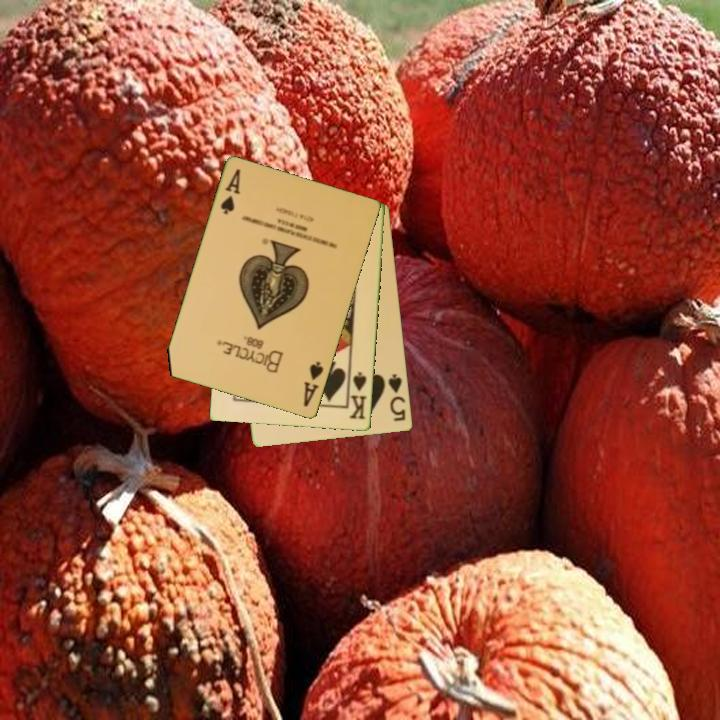5s: (385, 370, 409, 424)
As: (217, 166, 244, 218), (300, 358, 326, 410)
Ks: (346, 369, 370, 423)
